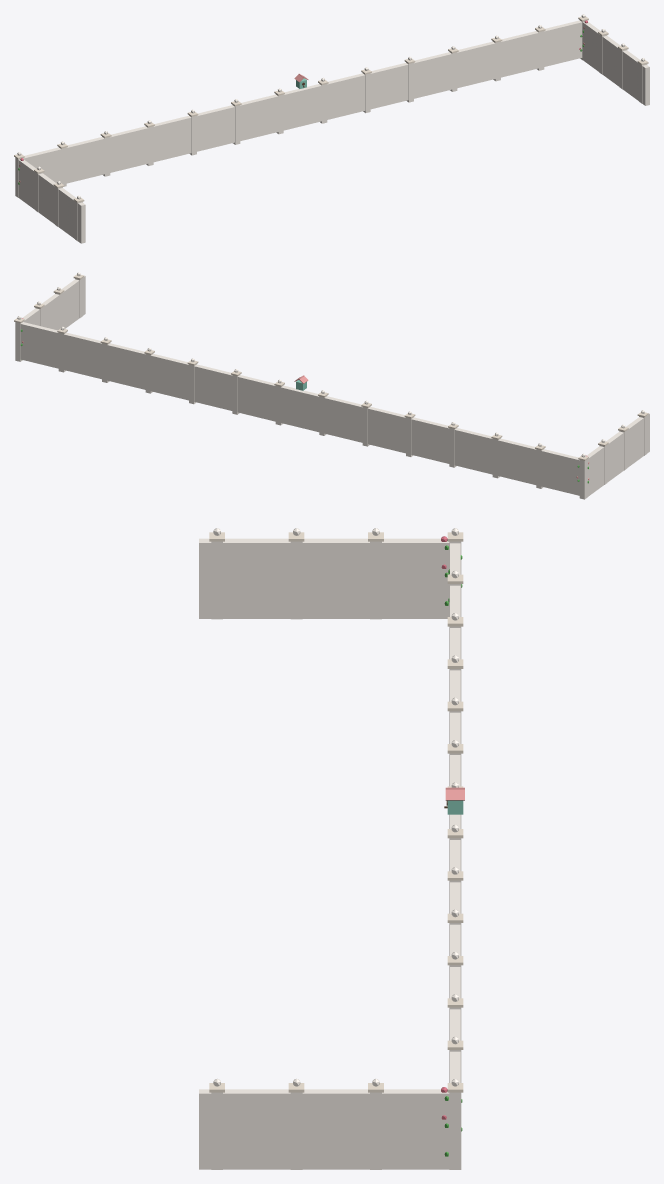
Rendered from CatCafe_Plot_YardFence_48x37.glb.
The picture shows the model from 3 angles, top to bottom: view 1: azimuth 30°, elevation 25°; view 2: azimuth 150°, elevation 25°; view 3: azimuth 270°, elevation 25°; orthographic projection. The views are drawn at different scales.
Parts seen in each view (by area): view 1: CatCafe_Plot_YardFence_48x37_Barrier, CatCafe_Plot_YardFence_48x37; view 2: CatCafe_Plot_YardFence_48x37_Barrier, CatCafe_Plot_YardFence_48x37; view 3: CatCafe_Plot_YardFence_48x37_Barrier, CatCafe_Plot_YardFence_48x37.
Part boxes in pixels (<box>): CatCafe_Plot_YardFence_48x37_Barrier: <box>18,20,649,243</box>; CatCafe_Plot_YardFence_48x37: <box>14,14,648,241</box>; CatCafe_Plot_YardFence_48x37_Barrier: <box>20,275,649,496</box>; CatCafe_Plot_YardFence_48x37: <box>14,272,648,499</box>; CatCafe_Plot_YardFence_48x37_Barrier: <box>199,538,460,1169</box>; CatCafe_Plot_YardFence_48x37: <box>209,528,464,1169</box>.
Size of the model in its own units: 50.4 by 4.38 by 10.17.
1 material, 1 textured.
